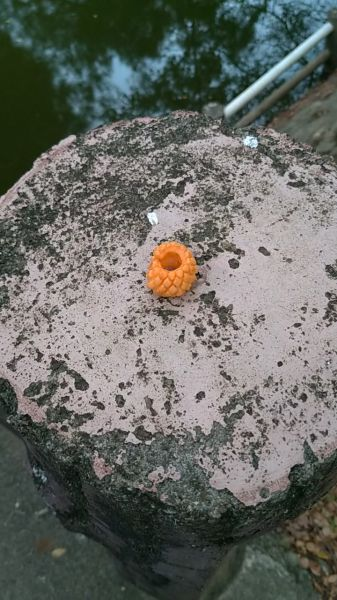eggs: (142, 236, 202, 299)
